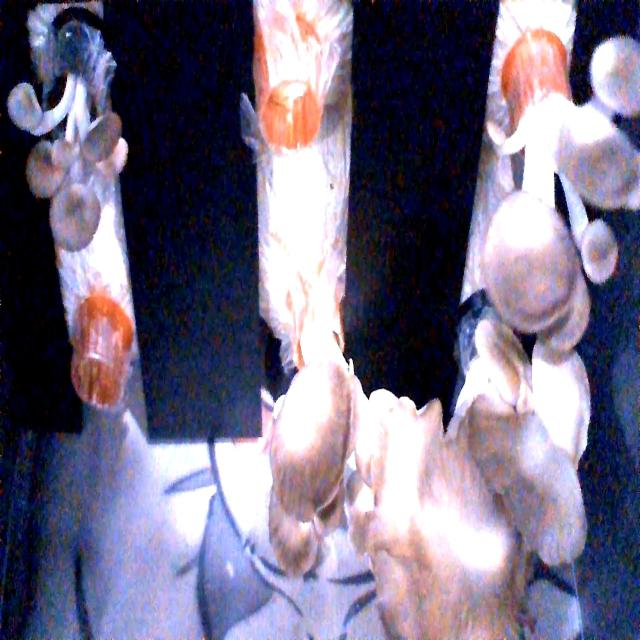big: (342, 342, 593, 640), (485, 43, 640, 358), (253, 328, 381, 562)
nfound: (61, 312, 142, 424), (255, 68, 329, 150)
small: (5, 58, 135, 255)
